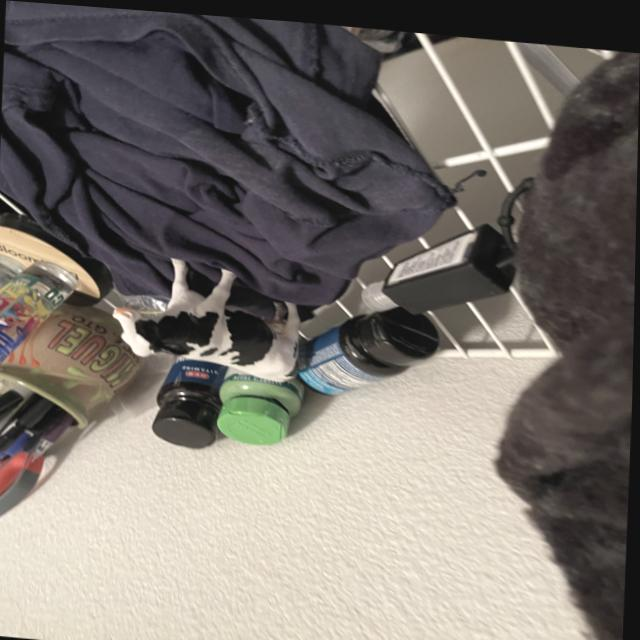cow: (108, 246, 314, 382)
